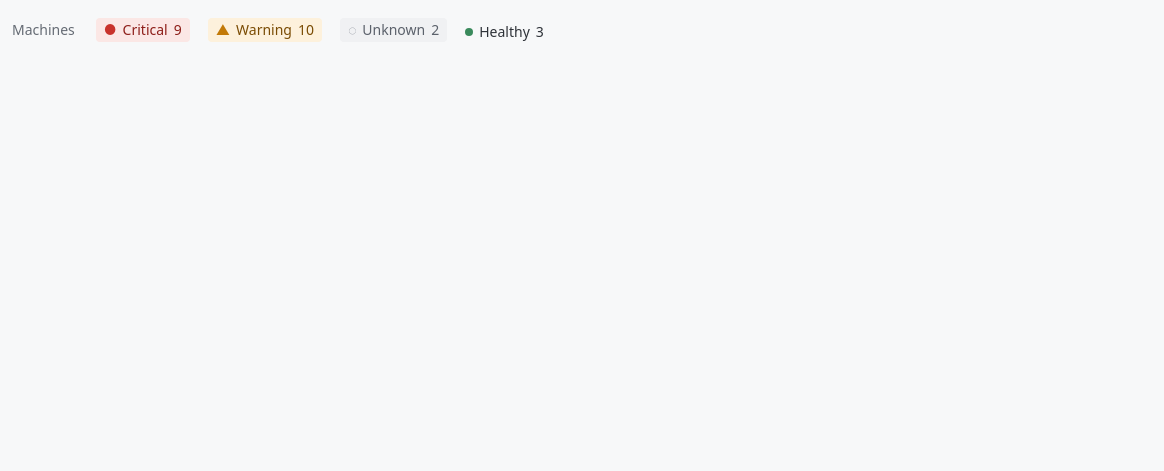
Scenario: machine list rows › show "Stale" with its age and "Last reading … at …" for a stale sensor
The image size is (1164, 471).
Click the button "● Critical 9" at (143, 30), box [91,12,195,47]
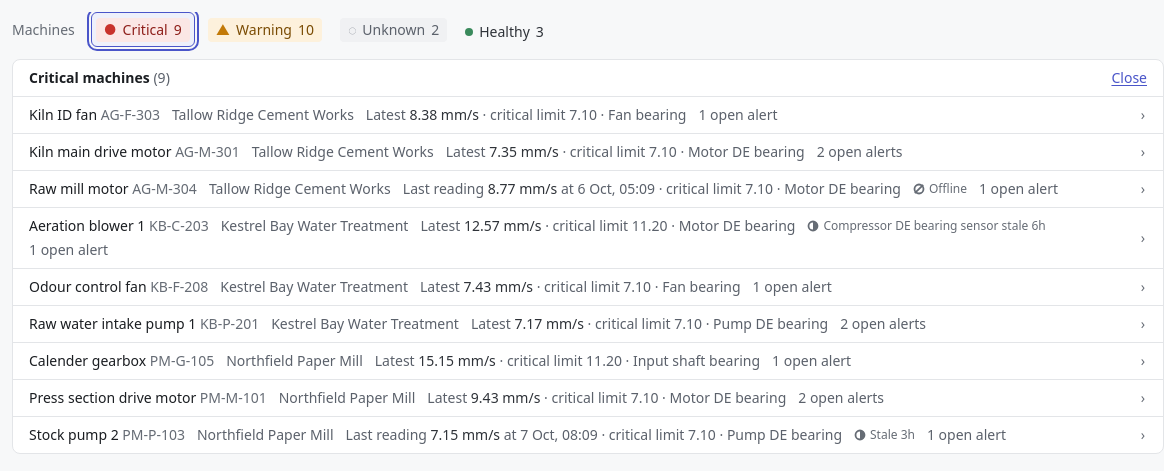
Now the element showing "Stale 3h" is shown, box [854,427,915,443]
